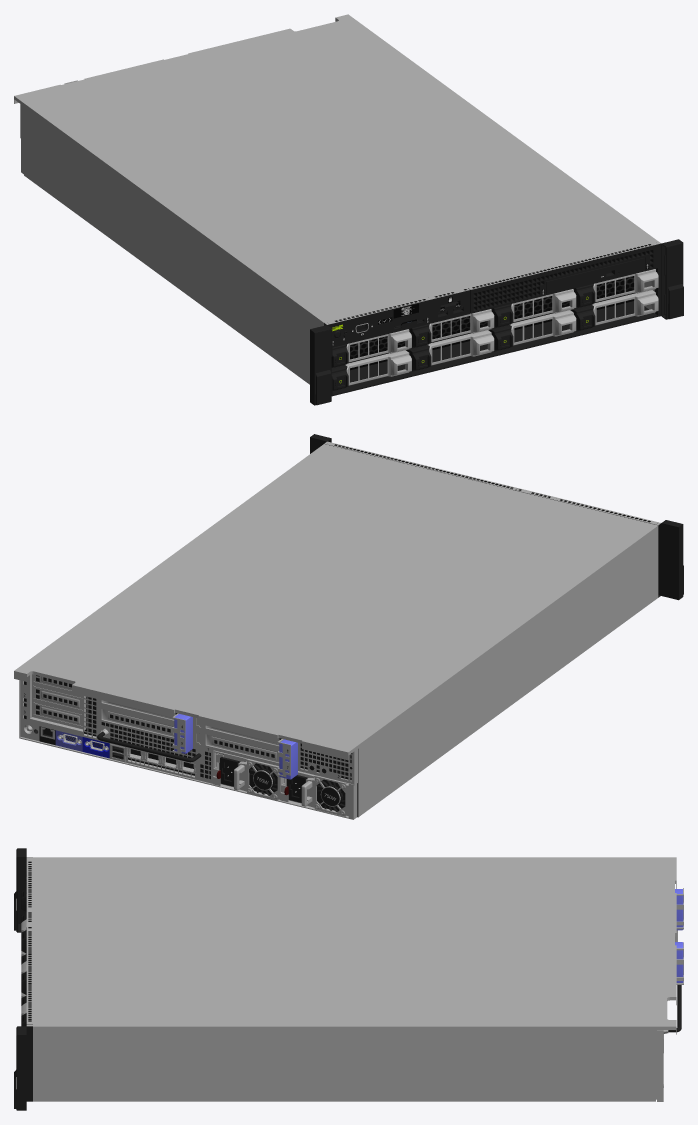
The model's file is Dell_R720.fbx.
3 renders of one model, top to bottom at view 1: azimuth 30°, elevation 25°; view 2: azimuth 150°, elevation 25°; view 3: azimuth 270°, elevation 25°, orthographic. The views are drawn at different scales.
Parts seen in each view (by area): view 1: Dell_R720; view 2: Dell_R720; view 3: Dell_R720.
Part boxes in pixels (x1,y1,x2,y2): Dell_R720: (14,14,683,405); Dell_R720: (14,434,683,819); Dell_R720: (14,848,683,1110).
Size of the model in its own units: 475 by 89.81 by 720.
Materials: 27 (17 with a texture image).
